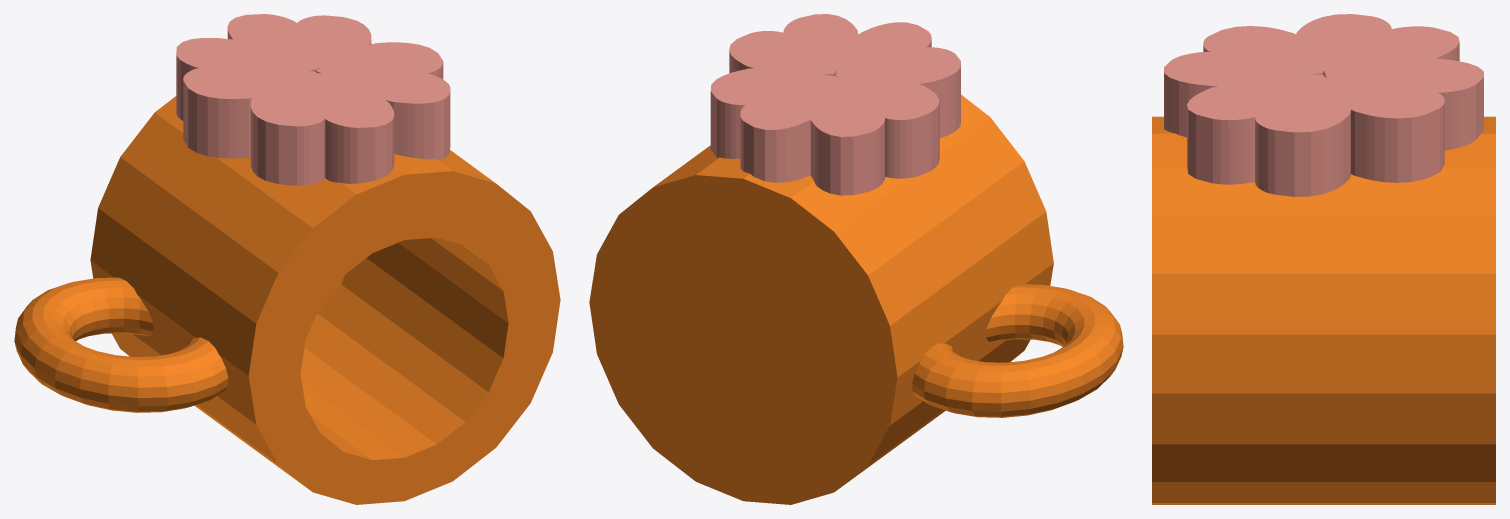
The model's file is tinker.obj.
3 views of the same model, side by side, from view 1: azimuth 30°, elevation 25°; view 2: azimuth 150°, elevation 25°; view 3: azimuth 270°, elevation 25° (orthographic). The views are drawn at different scales.
Visible parts, largest first — view 1: group_0_16089887, group_0_15308428; view 2: group_0_16089887, group_0_15308428; view 3: group_0_16089887, group_0_15308428.
Boxes of the visible parts, x1,y1,x2,y2 form: group_0_16089887: (14,96,560,504); group_0_15308428: (176,14,450,185); group_0_16089887: (589,94,1123,504); group_0_15308428: (710,14,960,195); group_0_16089887: (1152,116,1495,504); group_0_15308428: (1164,14,1483,196).
Bounding box in the file's own units: 47 × 38 × 29.
